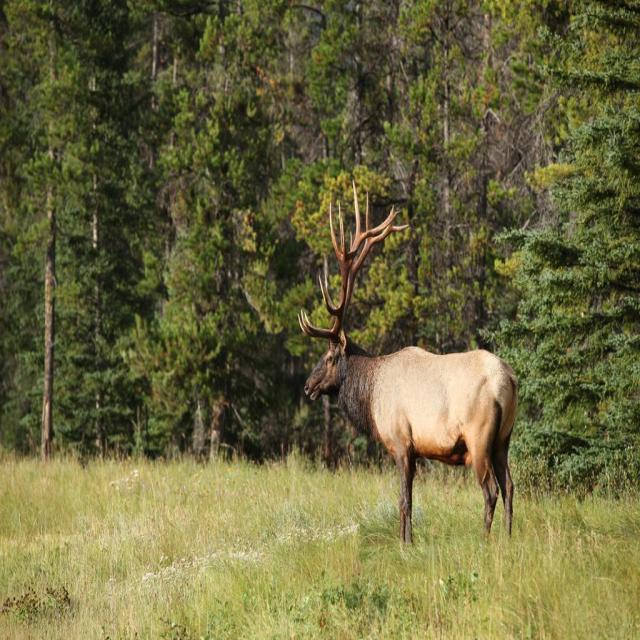Deer: (302, 174, 512, 535)
